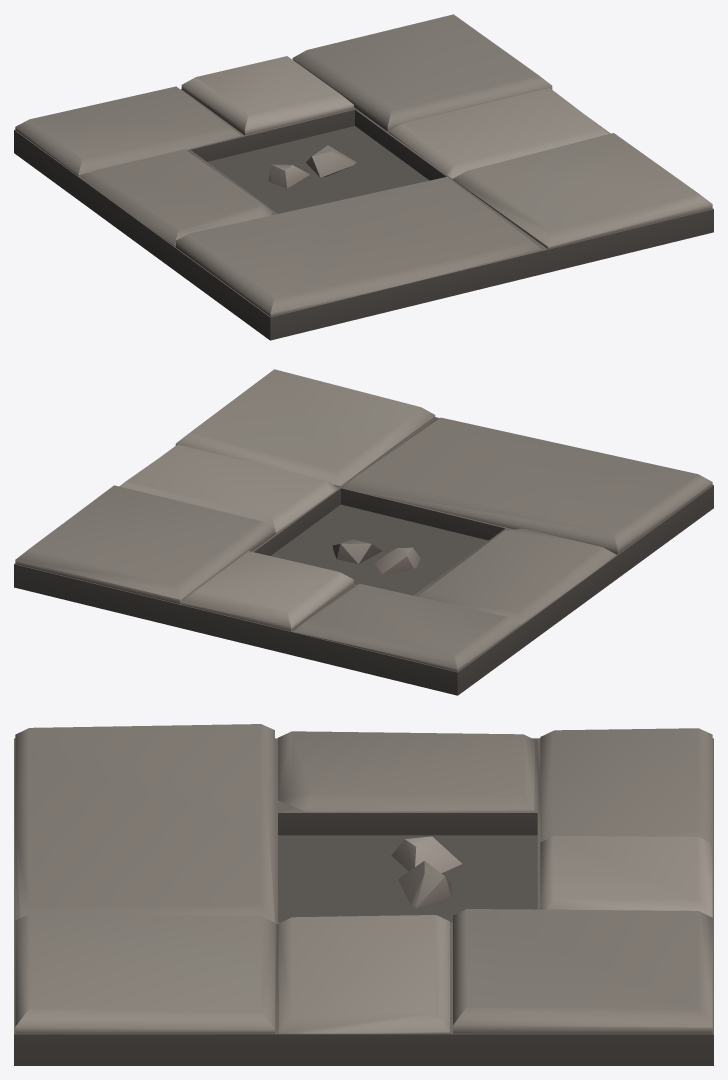
Rendered from floor_flagstones_ruined_small_A.glb.
3 views of the same model, one above another, from view 1: azimuth 30°, elevation 25°; view 2: azimuth 150°, elevation 25°; view 3: azimuth 270°, elevation 25° (orthographic). The views are drawn at different scales.
Visible parts, largest first — view 1: Item; view 2: Item; view 3: Item.
Part boxes in pixels (x1,y1,x2,y2): Item: (14, 14, 713, 340); Item: (14, 369, 713, 695); Item: (14, 724, 713, 1065).
Size of the model in its own units: 2 by 0.166 by 2.
1 material, 1 textured.
